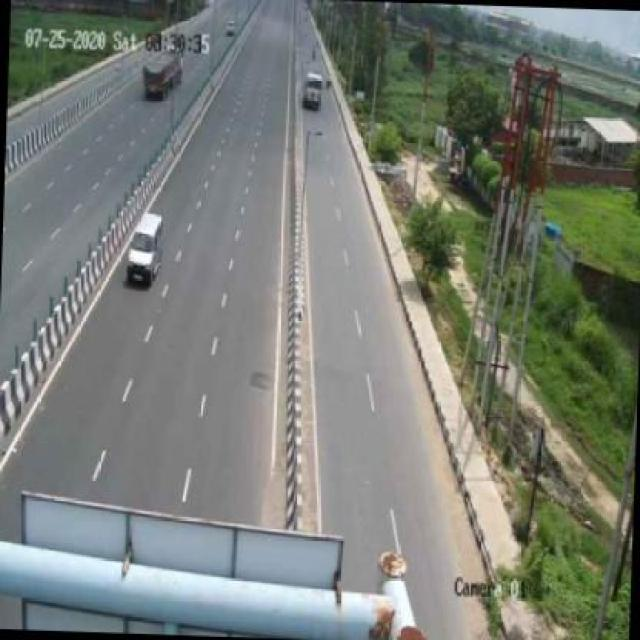car: (126, 209, 172, 297)
